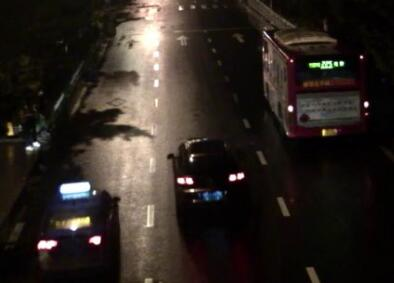bus: (260, 21, 369, 139)
car: (164, 132, 249, 224), (35, 182, 121, 270)
